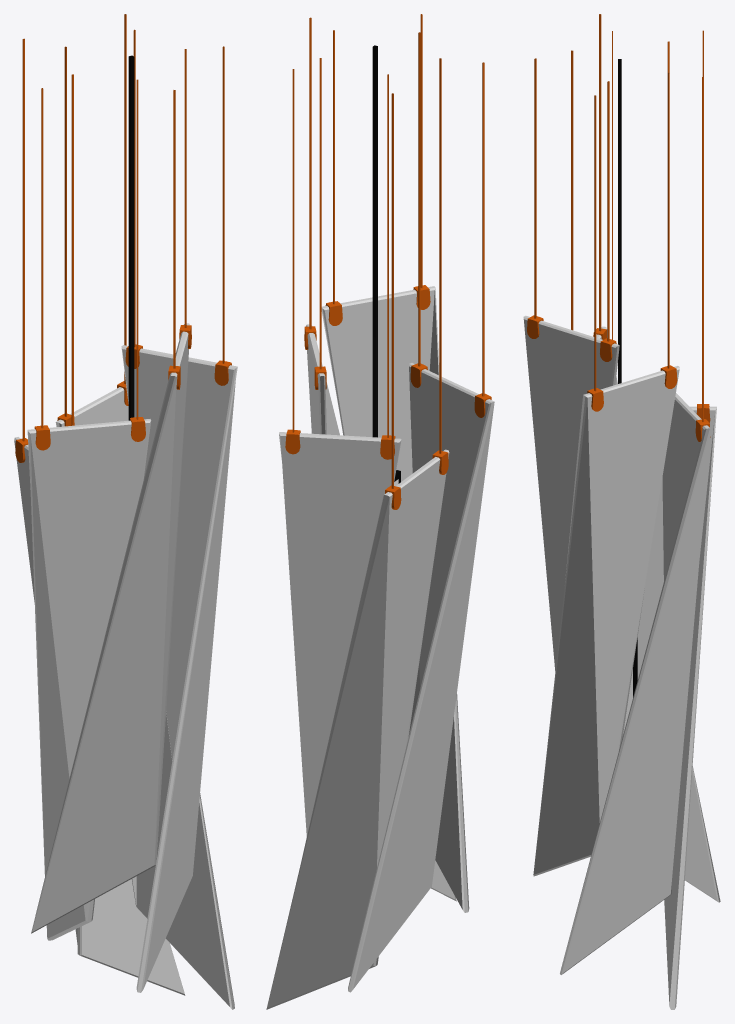
Rendered from Light_A_01.fbx.
The picture shows the model from 3 angles, left to right: view 1: azimuth 30°, elevation 25°; view 2: azimuth 150°, elevation 25°; view 3: azimuth 270°, elevation 25°; orthographic projection. The views are drawn at different scales.
Parts seen in each view (by area): view 1: Light_A_01_Glass, Light_A_01; view 2: Light_A_01_Glass, Light_A_01; view 3: Light_A_01_Glass, Light_A_01.
Part boxes in pixels (<box>): Light_A_01_Glass: <box>14,323,237,1009</box>; Light_A_01: <box>15,14,231,462</box>; Light_A_01_Glass: <box>266,286,494,1009</box>; Light_A_01: <box>285,14,491,509</box>; Light_A_01_Glass: <box>523,315,720,1009</box>; Light_A_01: <box>527,14,710,734</box>.
Bounding box in the file's own units: 107 × 499 × 97.55.
